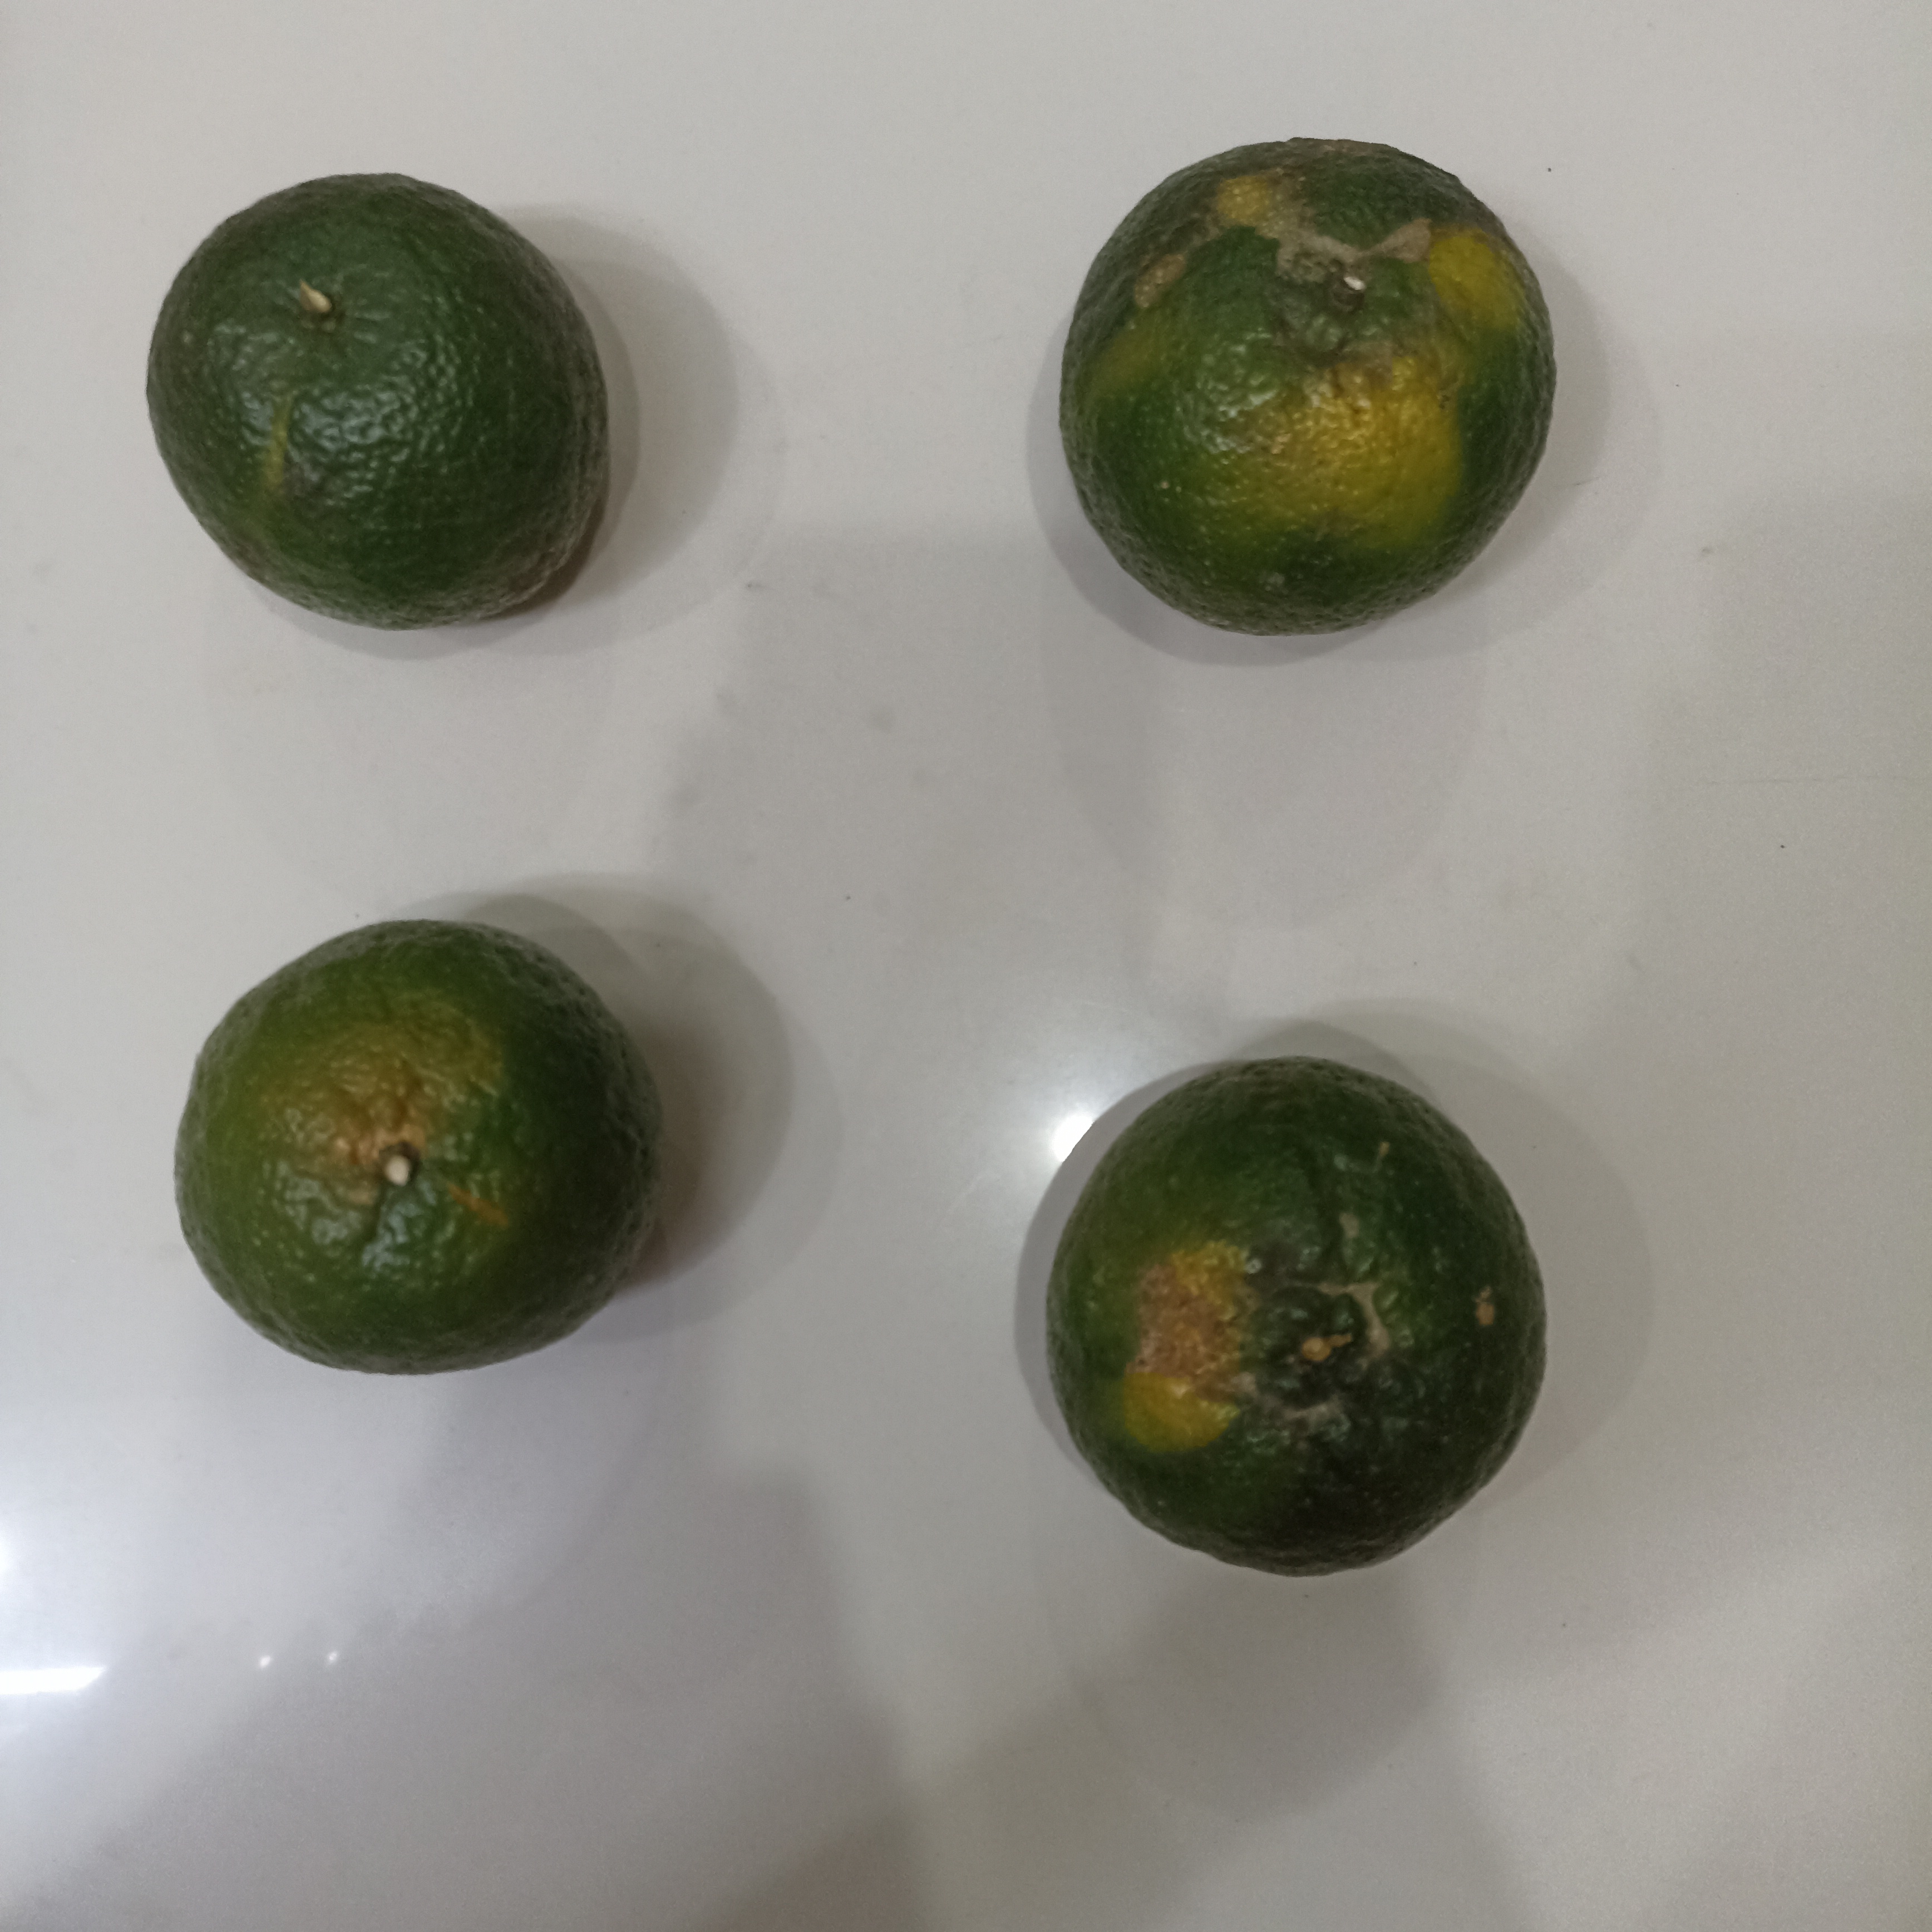Cam: (1042, 1054, 1545, 1578), (1055, 135, 1556, 640), (172, 921, 667, 1378), (143, 169, 608, 632)
